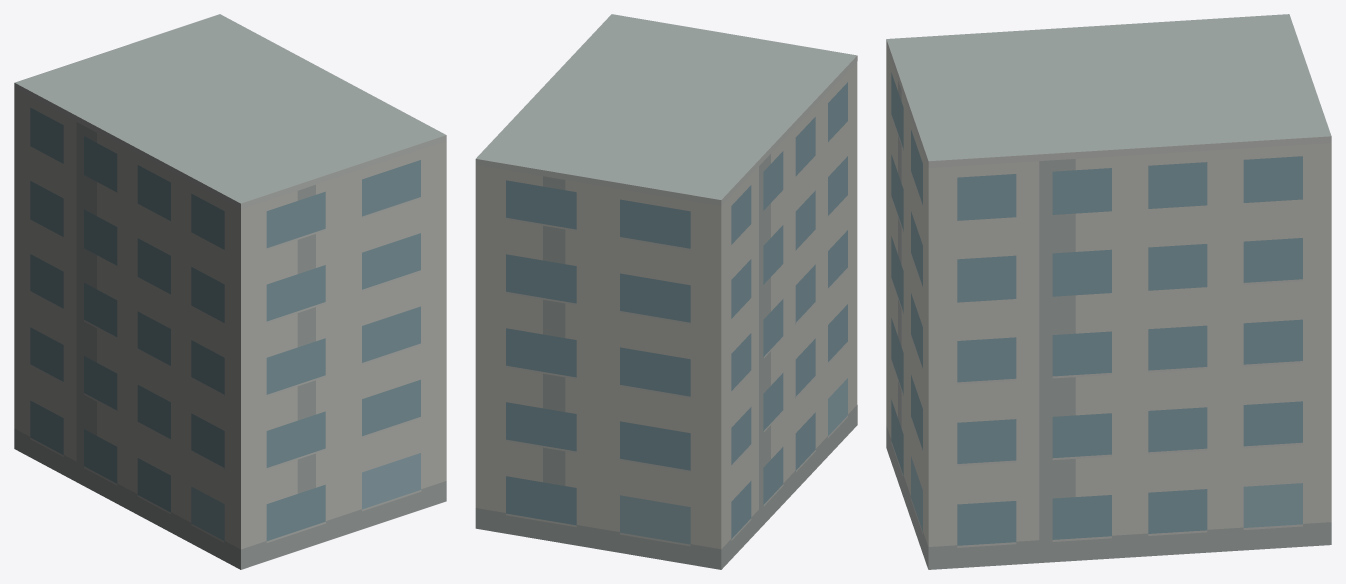
Rendered from survey-upis-33040407.glb.
3 renders of one model, left to right at view 1: azimuth 30°, elevation 25°; view 2: azimuth 150°, elevation 25°; view 3: azimuth 270°, elevation 25°, orthographic. The views are drawn at different scales.
Visible parts, largest first — view 1: survey-upis-33040407.tmp; view 2: survey-upis-33040407.tmp; view 3: survey-upis-33040407.tmp.
Part boxes in pixels (x1,y1,x2,y2): survey-upis-33040407.tmp: (14,14,446,569); survey-upis-33040407.tmp: (475,14,857,569); survey-upis-33040407.tmp: (886,14,1331,569).
Bounding box in the file's own units: 11.44 × 14.8 × 14.62.
